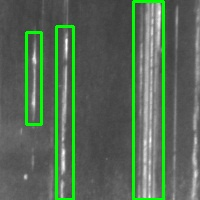scratches: (133, 1, 163, 199), (56, 26, 73, 199), (26, 32, 41, 124)
